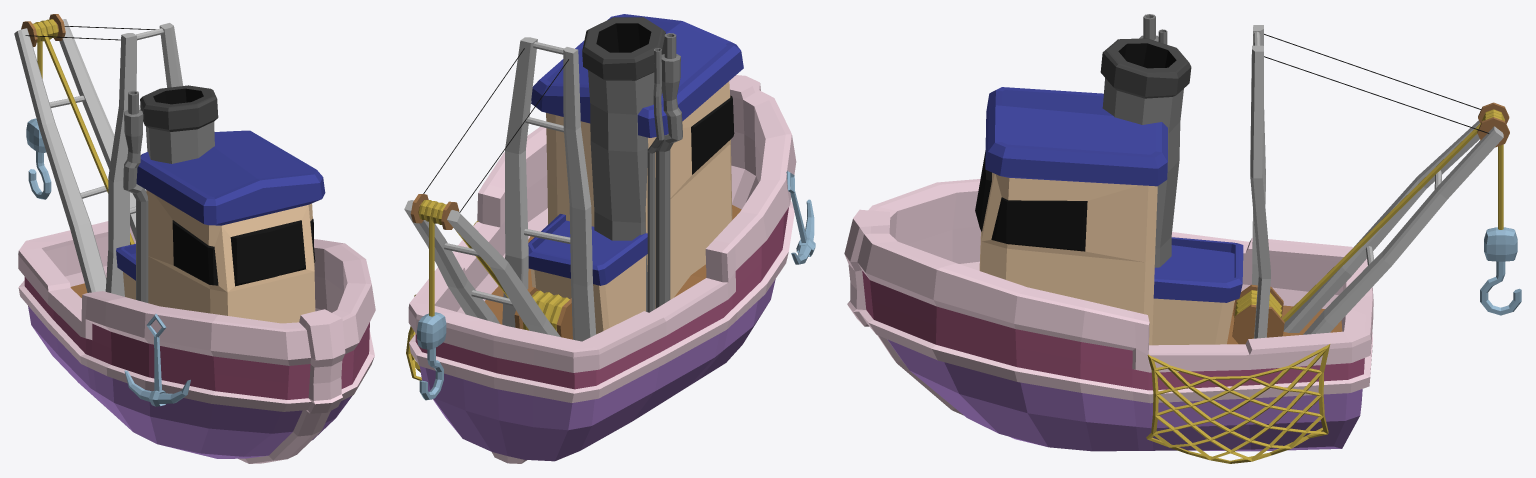
Rendered from Fishing Boat.fbx.
3 views of the same model, side by side, from view 1: azimuth 30°, elevation 25°; view 2: azimuth 150°, elevation 25°; view 3: azimuth 270°, elevation 25° (orthographic). The views are drawn at different scales.
Visible parts, largest first — view 1: Ship_Hull, Ship_Cabin, Ship_CraneRear, Ship_CraneFront, Ship_SmokeStackBig, Ship_SmokeStackSmall.001, Ship_Anchor, Ship_FishingHook, Ship_Line.001, Ship_LineReelBig, Ship_Auxillary_Cabin; view 2: Ship_Hull, Ship_Cabin, Ship_SmokeStackBig, Ship_CraneFront, Ship_Auxillary_Cabin, Ship_CraneRear, Ship_SmokeStackSmall.001, Ship_SmokeStackSmall.002, Ship_FishingHook, Ship_LineReelSmall, Ship_Anchor, Ship_LineReelBig (+1 smaller); view 3: Ship_Hull, Ship_Cabin, Ship_SmokeStackBig, Ship_CraneRear, Ship_Auxillary_Cabin, Ship_NetDecor, Ship_CraneFront, Ship_FishingHook, Ship_LineReelSmall, Ship_Line.001, Ship_LineReelBig.
Boxes of the visible parts, x1,y1,x2,y2 form: Ship_Hull: (18,221,375,463); Ship_Cabin: (136,130,325,323); Ship_CraneRear: (14,19,135,292); Ship_CraneFront: (105,23,183,296); Ship_SmokeStackBig: (140,85,218,163); Ship_SmokeStackSmall.001: (123,90,148,302); Ship_Anchor: (124,314,190,406); Ship_FishingHook: (26,118,51,199); Ship_Line.001: (43,32,134,244); Ship_LineReelBig: (21,14,65,46); Ship_Auxillary_Cabin: (116,244,135,299); Ship_Hull: (408,75,796,463); Ship_Cabin: (531,14,743,308); Ship_SmokeStackBig: (582,17,665,311); Ship_CraneFront: (502,37,596,341); Ship_Auxillary_Cabin: (528,214,647,334); Ship_CraneRear: (404,200,560,336); Ship_SmokeStackSmall.001: (655,33,682,308); Ship_SmokeStackSmall.002: (647,48,664,312); Ship_FishingHook: (417,312,446,400); Ship_LineReelSmall: (514,286,572,339); Ship_Anchor: (786,171,815,264); Ship_LineReelBig: (410,194,459,229); Ship_Hull: (844,179,1373,451); Ship_Cabin: (975,87,1167,345); Ship_SmokeStackBig: (1100,38,1191,267); Ship_CraneRear: (1283,120,1503,334); Ship_Auxillary_Cabin: (1152,237,1243,345); Ship_NetDecor: (1146,344,1330,463); Ship_CraneFront: (1250,25,1270,338); Ship_FishingHook: (1480,227,1521,315); Ship_LineReelSmall: (1232,284,1284,344); Ship_Line.001: (1282,120,1483,322); Ship_LineReelBig: (1477,102,1509,147).
Size of the model in its own units: 1860 by 2554 by 3878.
